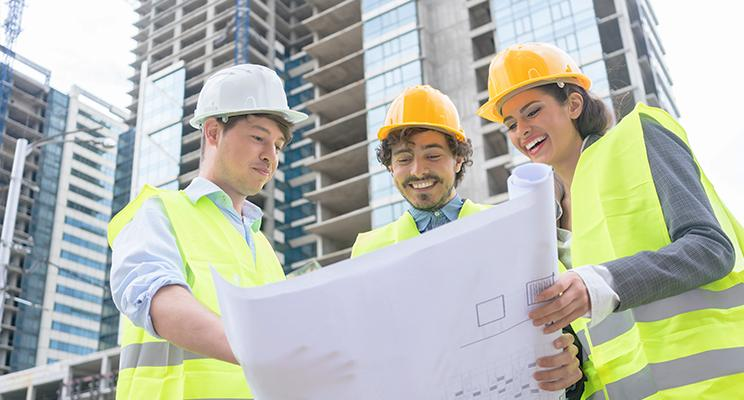hat: (172, 51, 331, 157), (461, 34, 602, 124), (361, 62, 495, 154)
vest: (540, 78, 744, 400), (89, 162, 308, 400), (319, 203, 572, 265)
